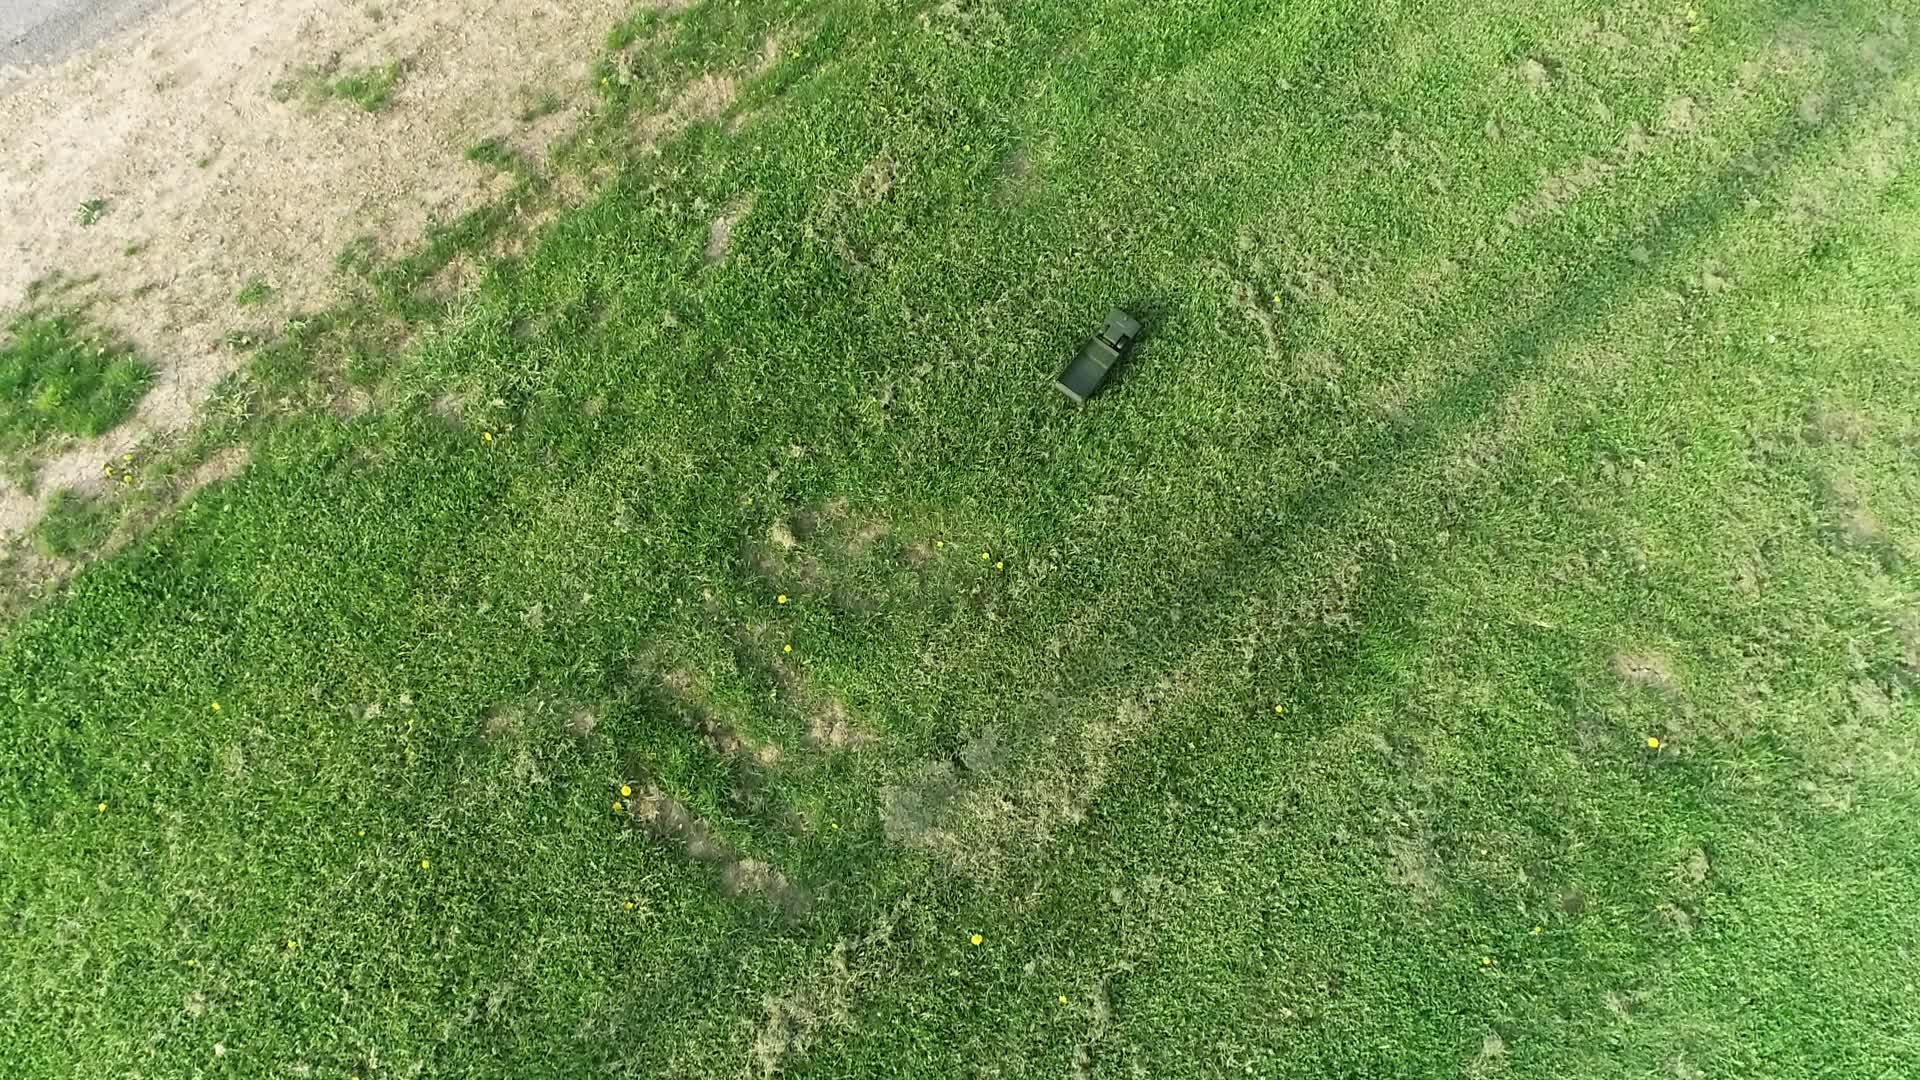transporter9: (1047, 299, 1146, 411)
